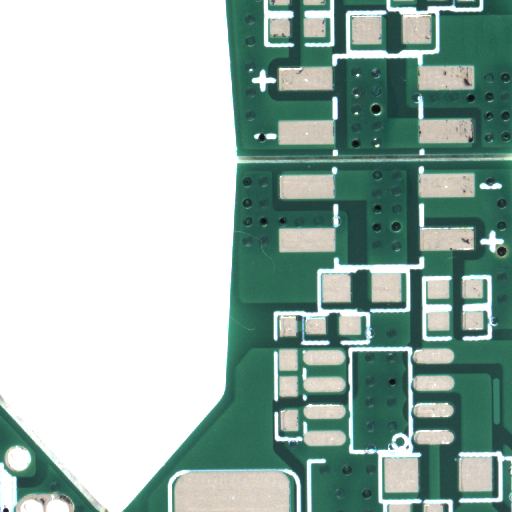Spurious_copper: (496, 400, 505, 449)
